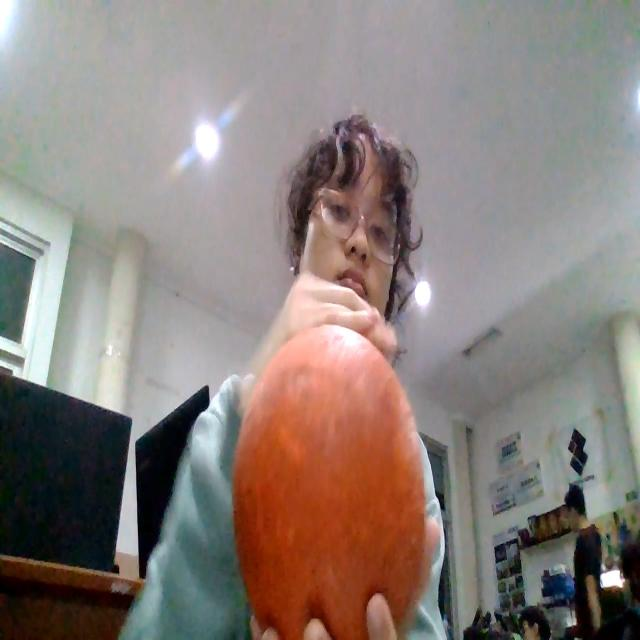ball: (231, 323, 427, 638)
